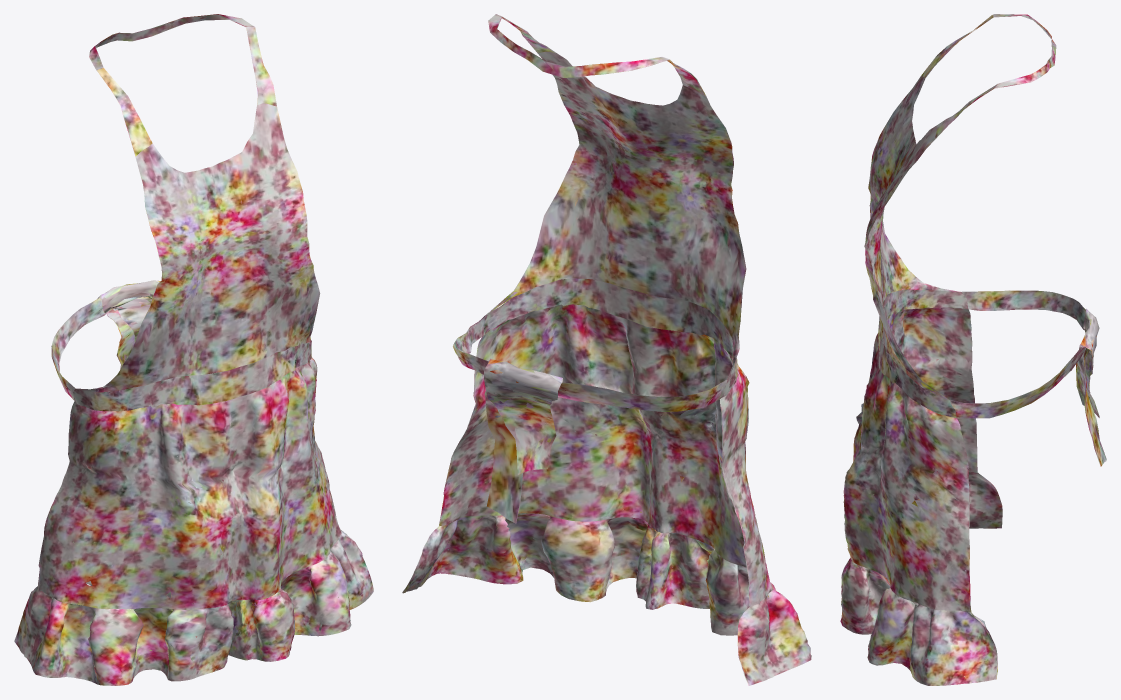
Rendered from elvs-ladies-apron.glb.
The picture shows the model from 3 angles, left to right: view 1: azimuth 30°, elevation 25°; view 2: azimuth 150°, elevation 25°; view 3: azimuth 270°, elevation 25°; orthographic projection. The views are drawn at different scales.
Visible parts, largest first — view 1: Human.elvs_ladies_apron; view 2: Human.elvs_ladies_apron; view 3: Human.elvs_ladies_apron.
Part boxes in pixels (x1,y1,x2,y2): Human.elvs_ladies_apron: [14, 14, 373, 685]; Human.elvs_ladies_apron: [402, 14, 811, 685]; Human.elvs_ladies_apron: [840, 14, 1106, 685].
Bounding box in the file's own units: 0.4557 × 0.73 × 0.3091.
1 material, 1 textured.
